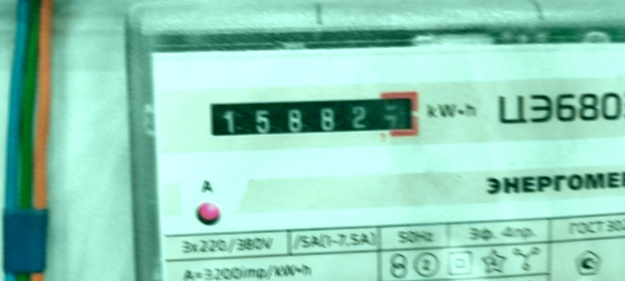1: (224, 105, 237, 134)
2: (351, 103, 368, 129)
5: (255, 106, 272, 137)
7: (384, 111, 397, 129)
8: (287, 105, 303, 134), (320, 104, 336, 132)
screen: (199, 82, 426, 148)
